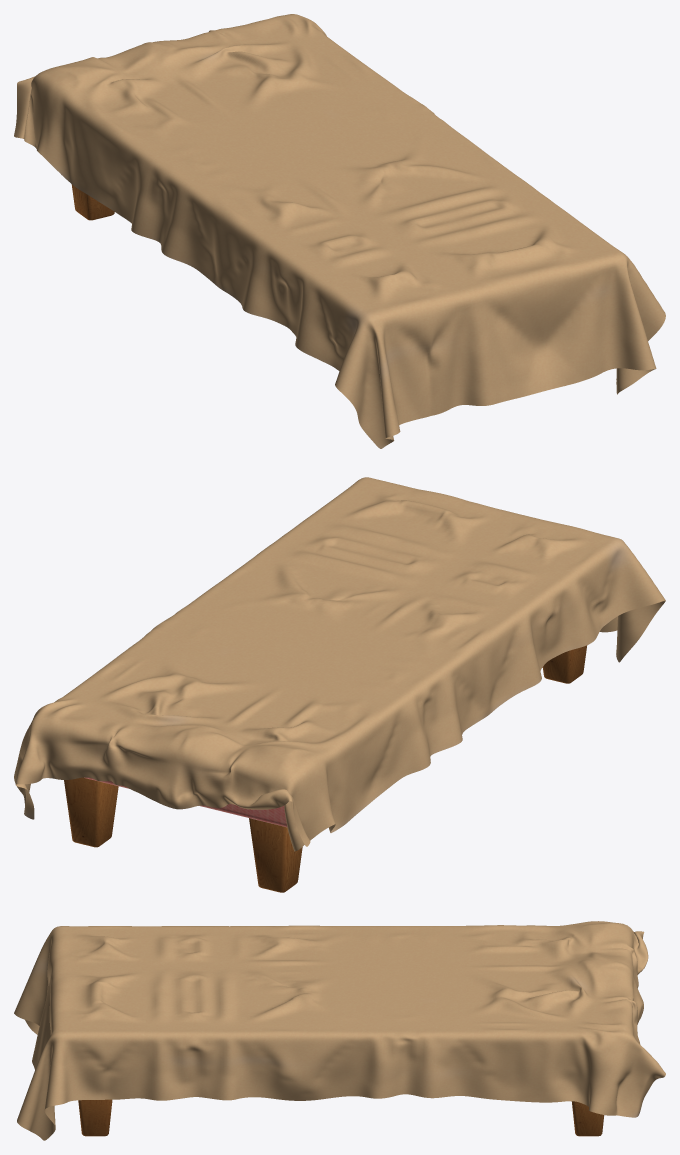
The model's file is voodi.fbx.
The picture shows the model from 3 angles, top to bottom: view 1: azimuth 30°, elevation 25°; view 2: azimuth 150°, elevation 25°; view 3: azimuth 270°, elevation 25°; orthographic projection. The views are drawn at different scales.
Visible parts, largest first — view 1: Voodi; view 2: Voodi; view 3: Voodi.
Part boxes in pixels (x1=…): Voodi: x1=14, y1=14, x2=665, y2=448; Voodi: x1=14, y1=477, x2=665, y2=892; Voodi: x1=14, y1=921, x2=665, y2=1140.
Bounding box in the file's own units: 2853 × 1167 × 5631.
